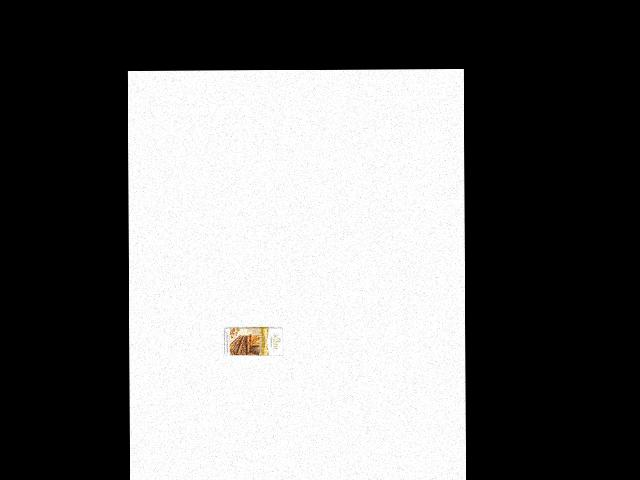chocolate: (221, 315, 286, 361)
